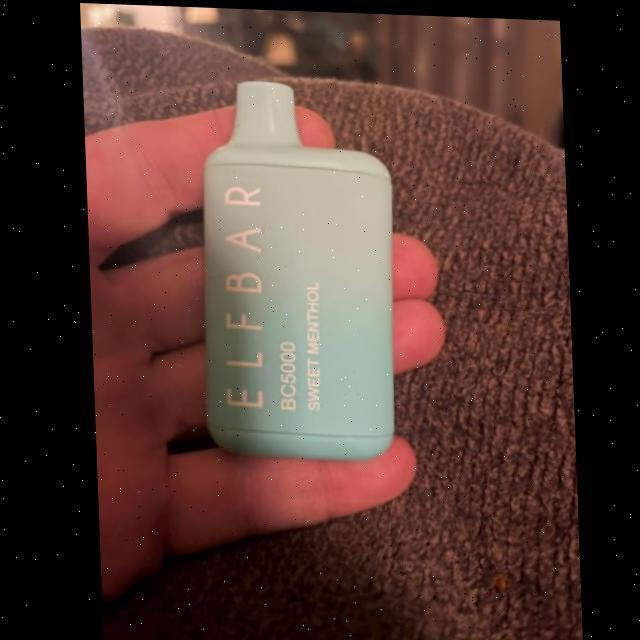vape: (192, 77, 400, 460)
